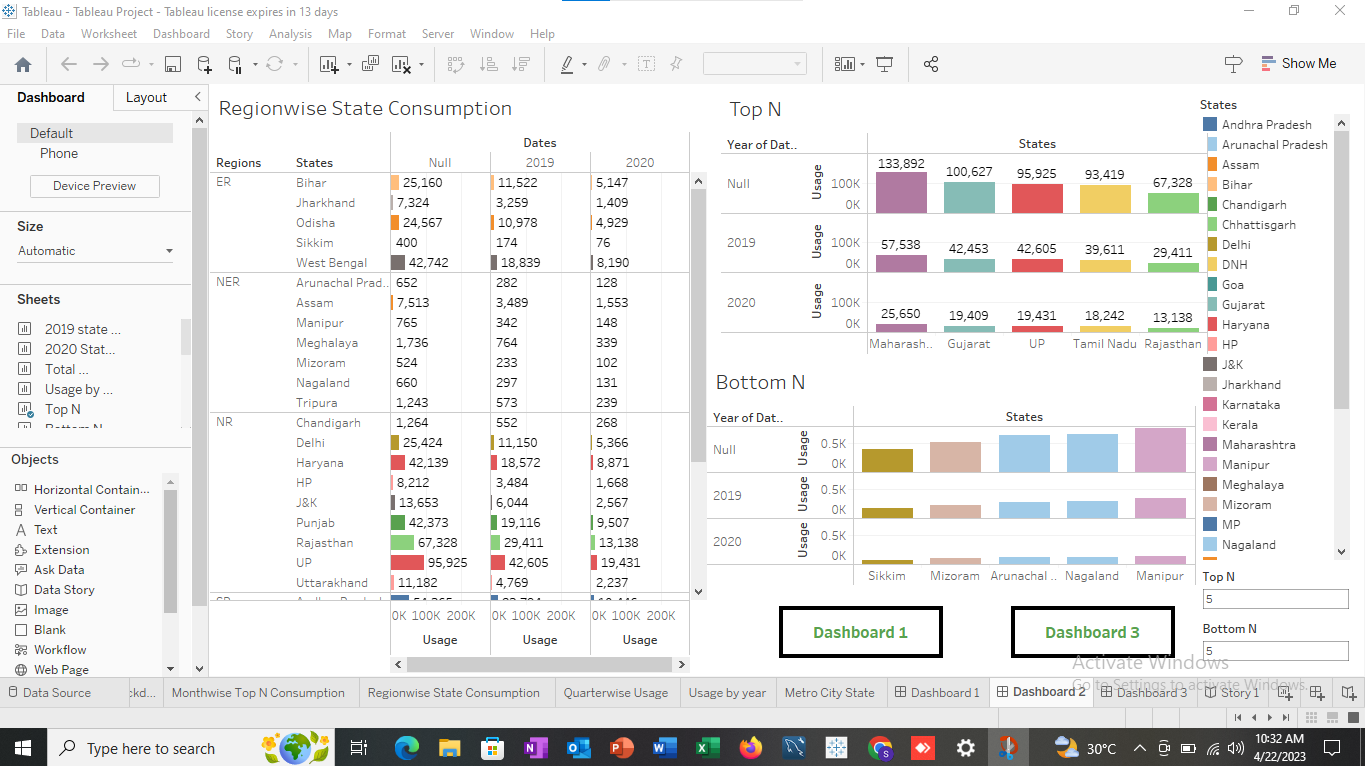

The dashboard page shown, as its layout file describes it:
{"tool":"tableau","page":{"name":"Dashboard 2","canvas":[1000,1000],"units":"permille","ordinal":1},"visuals":[{"type":"worksheet","title":" Regionwise State Consumption","mark":"Automatic","rows":["Regions","States"],"cols":["Dates","Usage"],"box":[0.9,8.4,430.3,986.5]},{"type":"worksheet","title":" Top N","mark":"Automatic","rows":["Dates","Usage"],"cols":["States"],"box":[443.3,10.1,421.7,447.6]},{"type":"legend","title":" Regionwise State Consumption","param":"[federated.109c9rb1er5z9013tcwor05avt9f].[none:States:nk]","box":[854.5,13.5,138.5,797.3]},{"type":"worksheet","title":" Bottom N","mark":"Automatic","rows":["Dates","Usage"],"cols":["States"],"box":[431.2,471.3,423.4,376.7]},{"type":"parameter","param":"[Parameters].[Parameter 1]","box":[854.5,810.8,138.5,87.8]},{"type":"dashboard-object","box":[493.5,881.8,142,87.8]},{"type":"dashboard-object","box":[694.4,881.8,142,87.8]},{"type":"parameter","param":"[Parameters].[Parameter 2]","box":[854.5,898.7,138.5,87.8]}]}

Visuals, with their boxes on the dashboard's canvas, which has no fixed pixel size, in thousandths of its width and height (x1, y1, x2, y2). These are canvas units, not pixel positions in the 1365x766 screenshot, which may show the page scaled, cropped or inside an application window:
" Regionwise State Consumption" worksheet: (x1=1, y1=8, x2=431, y2=995)
" Top N" worksheet: (x1=443, y1=10, x2=865, y2=458)
" Regionwise State Consumption" legend: (x1=854, y1=14, x2=993, y2=811)
" Bottom N" worksheet: (x1=431, y1=471, x2=855, y2=848)
parameter: (x1=854, y1=811, x2=993, y2=899)
dashboard-object: (x1=494, y1=882, x2=636, y2=970)
dashboard-object: (x1=694, y1=882, x2=836, y2=970)
parameter: (x1=854, y1=899, x2=993, y2=986)
